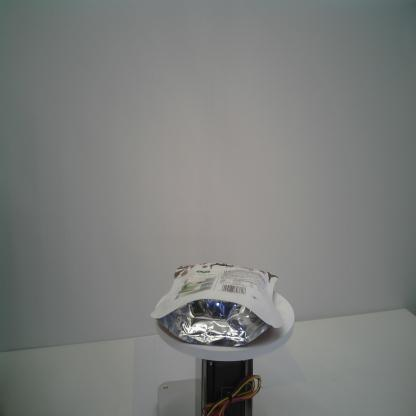Dried Fruit: (150, 262, 283, 347)
